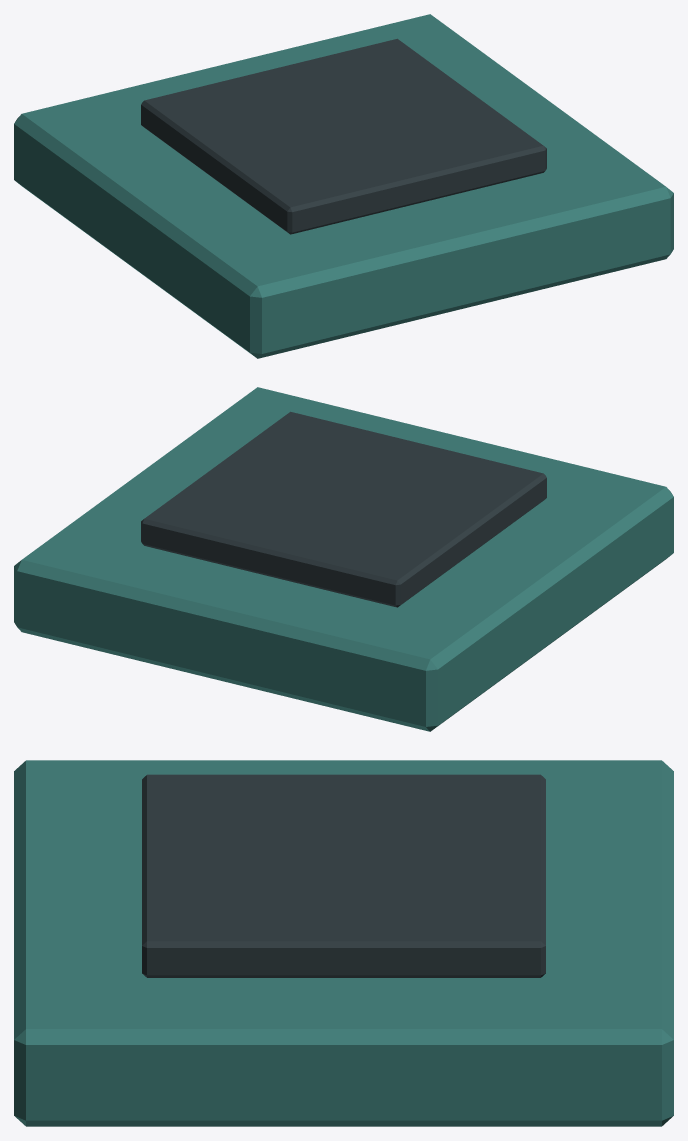
Rendered from factory-roof-bay-lod0.d0d20ee718b5.glb.
The picture shows the model from 3 angles, top to bottom: view 1: azimuth 30°, elevation 25°; view 2: azimuth 150°, elevation 25°; view 3: azimuth 270°, elevation 25°; orthographic projection. The views are drawn at different scales.
Parts seen in each view (by area): view 1: body; view 2: body; view 3: body.
Part boxes in pixels (box(x1,y1,x2,y2)): body: box(14, 14, 673, 358); body: box(14, 387, 673, 731); body: box(14, 760, 673, 1126).
Bounding box in the file's own units: 0.98 × 0.22 × 0.98.
